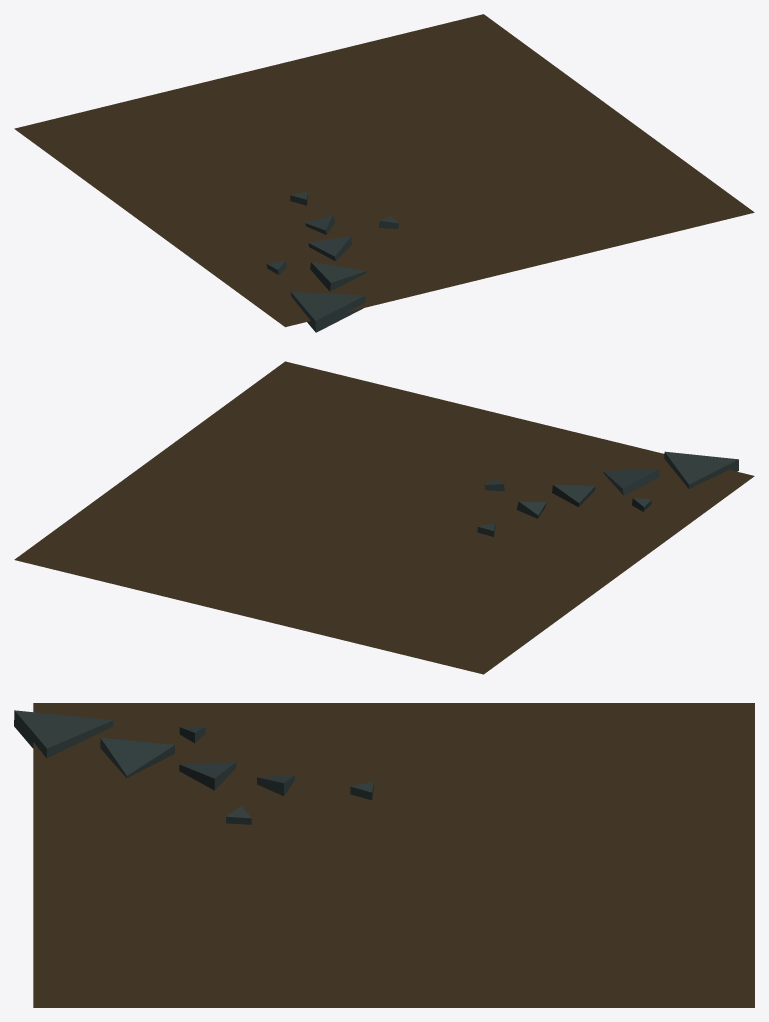
Rendered from Floor.017.fbx.
3 renders of one model, top to bottom at view 1: azimuth 30°, elevation 25°; view 2: azimuth 150°, elevation 25°; view 3: azimuth 270°, elevation 25°, orthographic. The views are drawn at different scales.
Parts seen in each view (by area): view 1: Floor.017; view 2: Floor.017; view 3: Floor.017.
Boxes of the visible parts, left/top/right/bottom form: Floor.017: left=14, top=14, right=754, bottom=332; Floor.017: left=14, top=361, right=754, bottom=674; Floor.017: left=14, top=703, right=754, bottom=1007.
Size of the model in its own units: 100 by 3.8 by 103.
